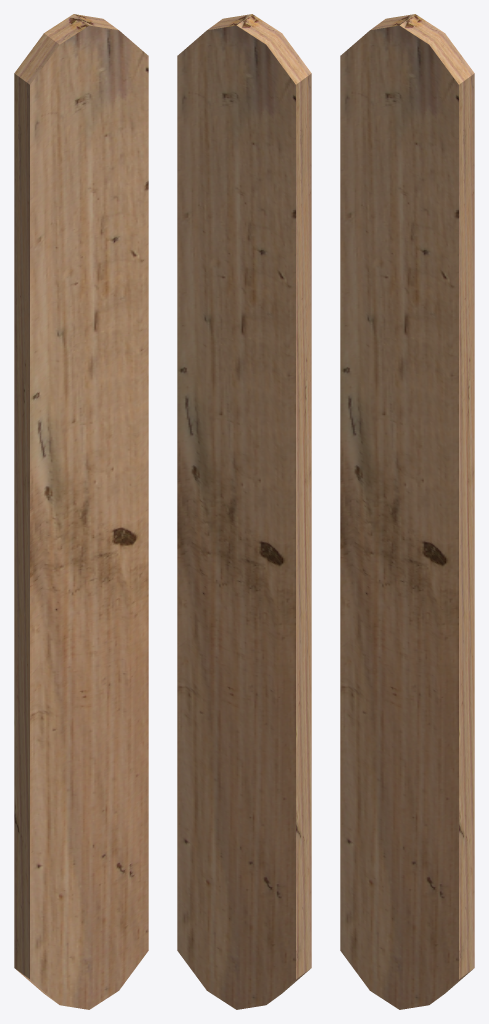
File: popsyclestick.obj
3 renders of one model, left to right at view 1: azimuth 30°, elevation 25°; view 2: azimuth 150°, elevation 25°; view 3: azimuth 330°, elevation 25°, orthographic.
Parts seen in each view (by area): view 1: Cube; view 2: Cube; view 3: Cube.
Boxes of the visible parts, x1,y1,x2,y2 form: Cube: (14,14,148,1009); Cube: (177,14,311,1009); Cube: (340,14,474,1009).
Bounding box in the file's own units: 0.2595 × 2.06 × 0.0598.
